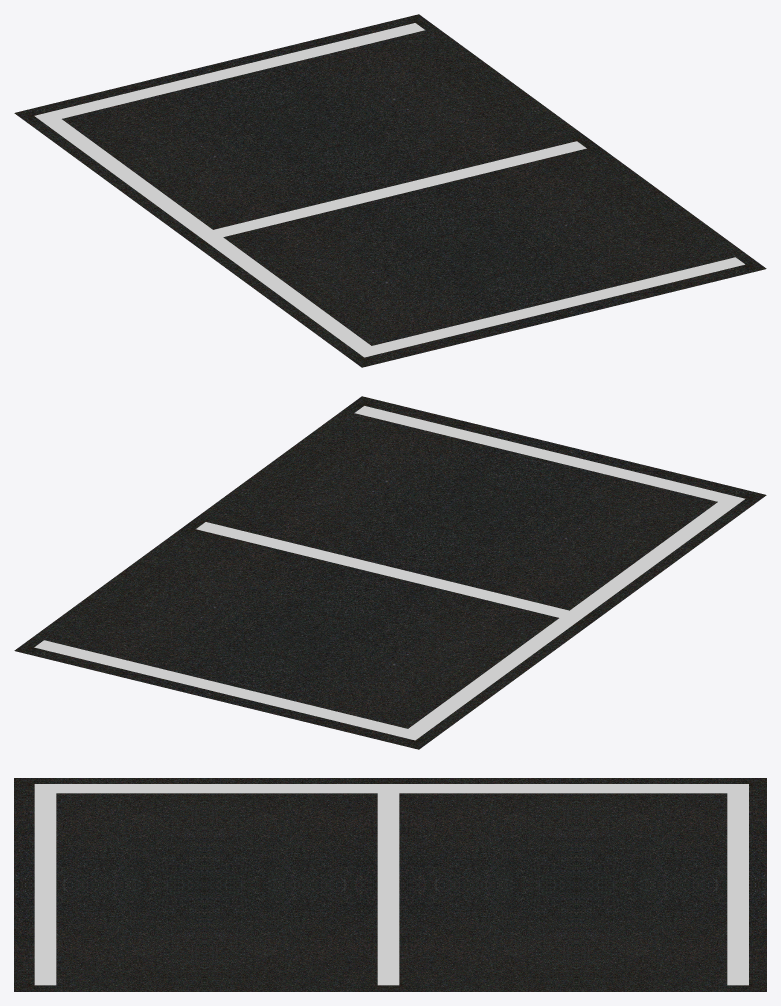
Rendered from ParkingLot.fbx.
3 renders of one model, top to bottom at view 1: azimuth 30°, elevation 25°; view 2: azimuth 150°, elevation 25°; view 3: azimuth 270°, elevation 25°, orthographic. The views are drawn at different scales.
Parts seen in each view (by area): view 1: 평면.004, 평면.001, 평면.003; view 2: 평면.004, 평면.001, 평면.003; view 3: 평면.004, 평면.001, 평면.003.
Boxes of the visible parts, bbox=[...] form: 평면.004: bbox=[14, 14, 590, 238]; 평면.001: bbox=[186, 140, 766, 367]; 평면.003: bbox=[34, 23, 744, 357]; 평면.004: bbox=[14, 522, 594, 749]; 평면.001: bbox=[190, 396, 766, 620]; 평면.003: bbox=[34, 406, 745, 740]; 평면.004: bbox=[386, 778, 766, 991]; 평면.001: bbox=[14, 778, 394, 991]; 평면.003: bbox=[34, 784, 748, 985].
Bounding box in the file's own units: 405 × 0.2907 × 603.
